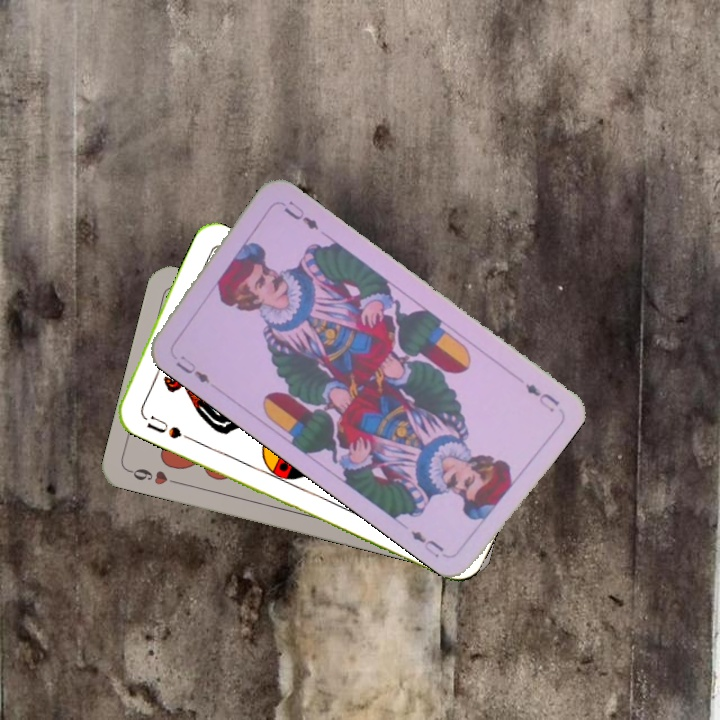EU: (521, 380, 562, 416), (172, 351, 213, 386)
H9: (125, 464, 183, 488)
SU: (142, 411, 193, 442)
